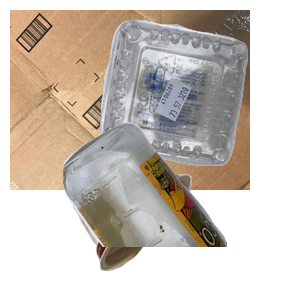cardboard: (10, 10, 250, 190)
glass: (60, 120, 300, 300)
plastic: (97, 17, 300, 176)
trash: (70, 149, 254, 300)
